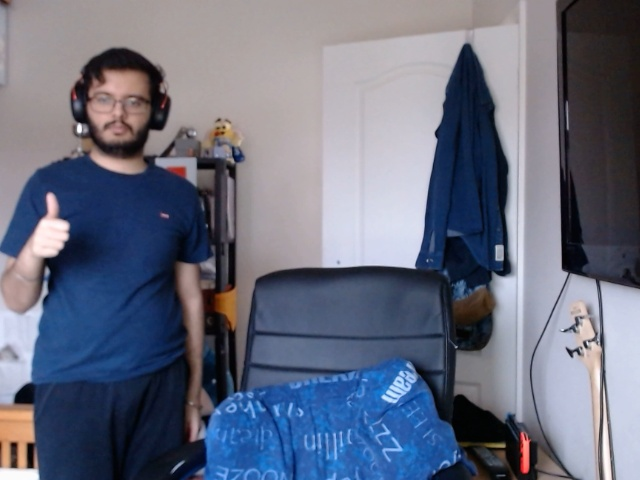Thumbs up: (28, 183, 71, 277)
